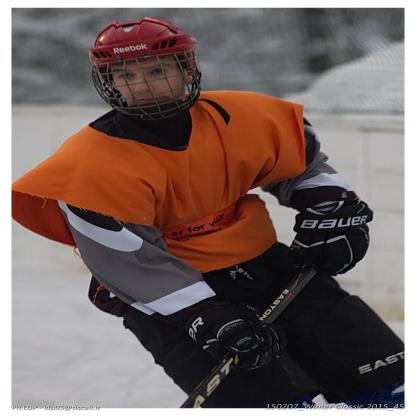Helmet: (90, 14, 208, 125)
